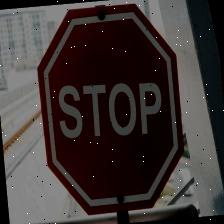Stop: (36, 1, 185, 217)
